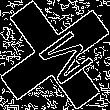M_SW: (21, 21, 89, 89)
